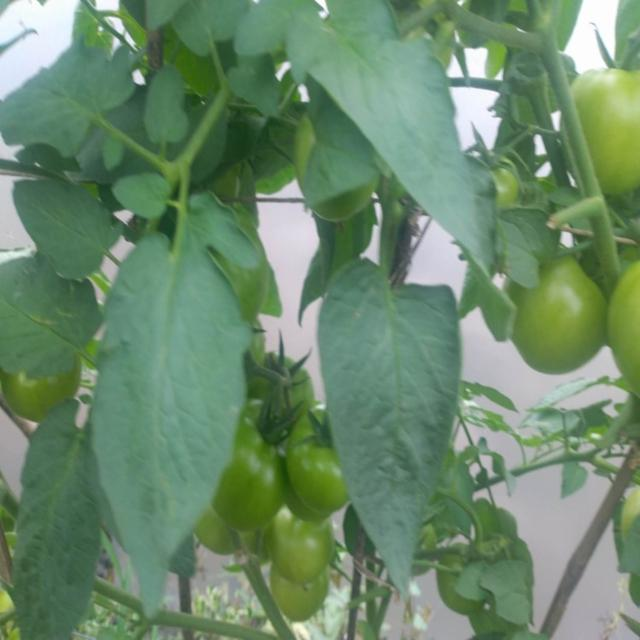tomato: (502, 253, 604, 376), (567, 68, 640, 188), (220, 413, 282, 527), (287, 403, 353, 507), (268, 508, 332, 577), (607, 263, 640, 392), (253, 350, 311, 409), (4, 367, 80, 412), (270, 568, 336, 616), (307, 182, 375, 227), (190, 511, 241, 554), (615, 481, 640, 522)
